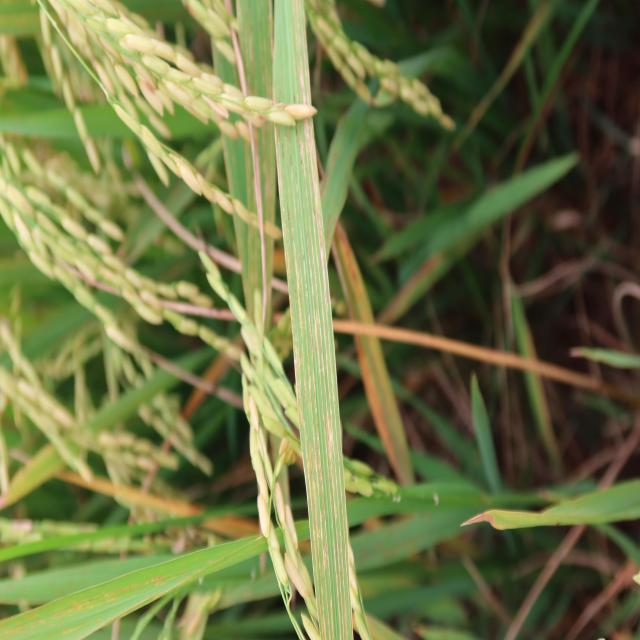Dom soc vi khuan: (303, 423, 323, 571), (292, 236, 303, 338), (304, 117, 318, 176), (312, 177, 322, 246), (319, 247, 329, 312), (297, 63, 312, 105), (282, 205, 290, 282), (295, 373, 303, 425), (326, 414, 334, 458), (299, 140, 306, 180), (293, 345, 301, 376), (323, 531, 329, 569), (308, 365, 312, 392), (321, 352, 325, 377)
